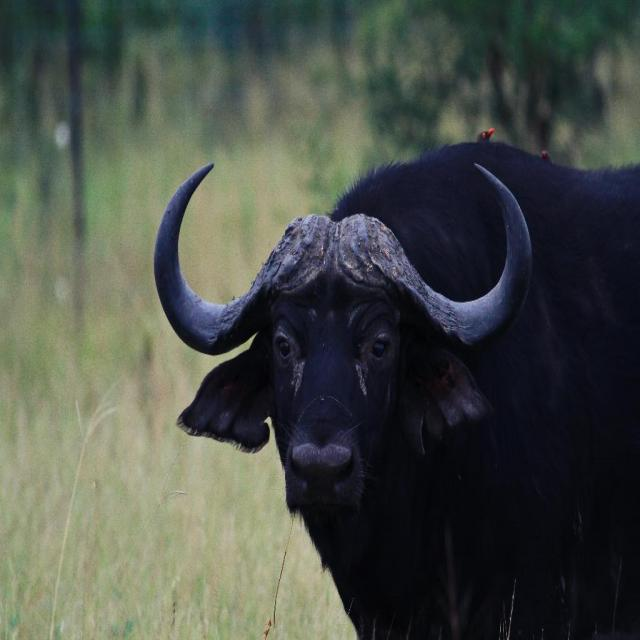Cattle: (153, 141, 640, 640)
